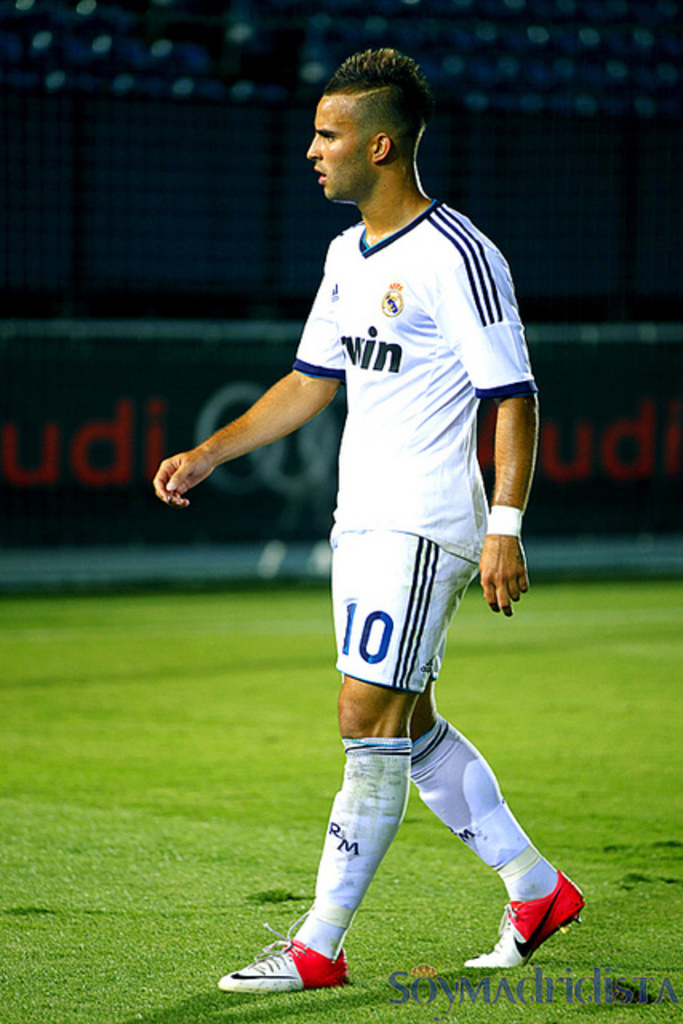Footwear: (461, 870, 589, 970), (232, 936, 350, 997)
